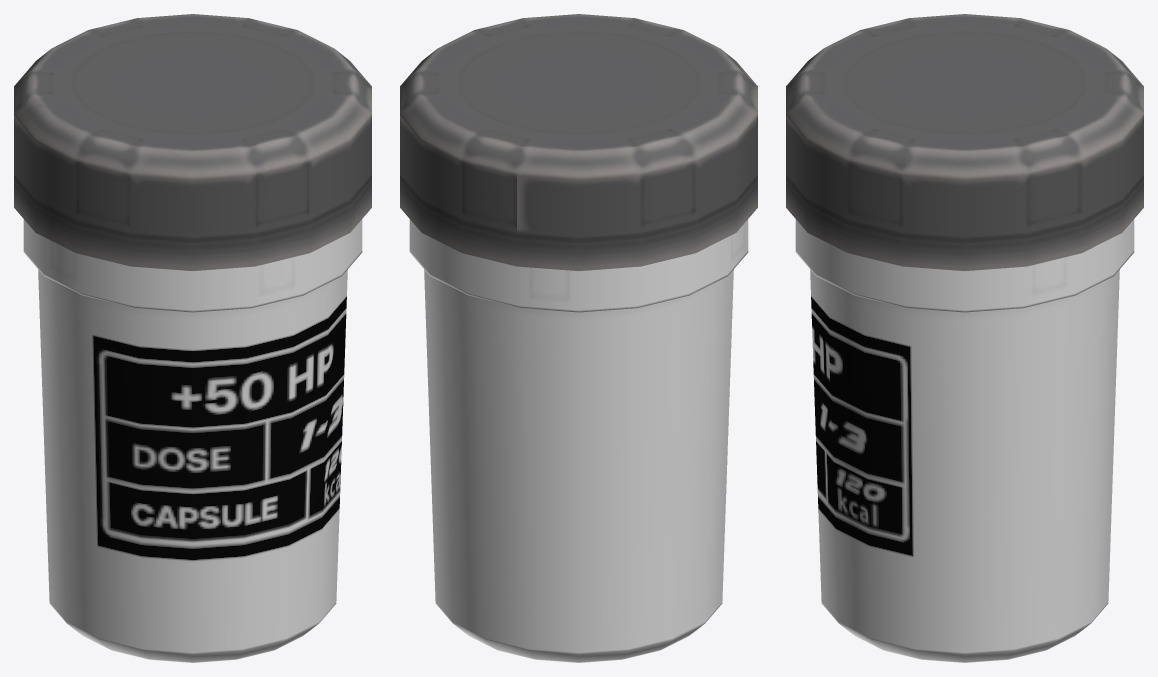
The model's file is SciFiMedPack01_1.FBX.
3 renders of one model, left to right at view 1: azimuth 30°, elevation 25°; view 2: azimuth 150°, elevation 25°; view 3: azimuth 270°, elevation 25°, orthographic.
Parts seen in each view (by area): view 1: SciFiMedPack01_1, Cap1; view 2: SciFiMedPack01_1, Cap1; view 3: SciFiMedPack01_1, Cap1.
Part boxes in pixels (<box>): SciFiMedPack01_1: <box>23,219,362,662</box>; Cap1: <box>14,14,371,270</box>; SciFiMedPack01_1: <box>409,219,748,662</box>; Cap1: <box>400,14,757,270</box>; SciFiMedPack01_1: <box>795,219,1134,662</box>; Cap1: <box>786,14,1143,270</box>.
Size of what is drawn, in the model's own units: 0.1053 by 0.1683 by 0.1037.
